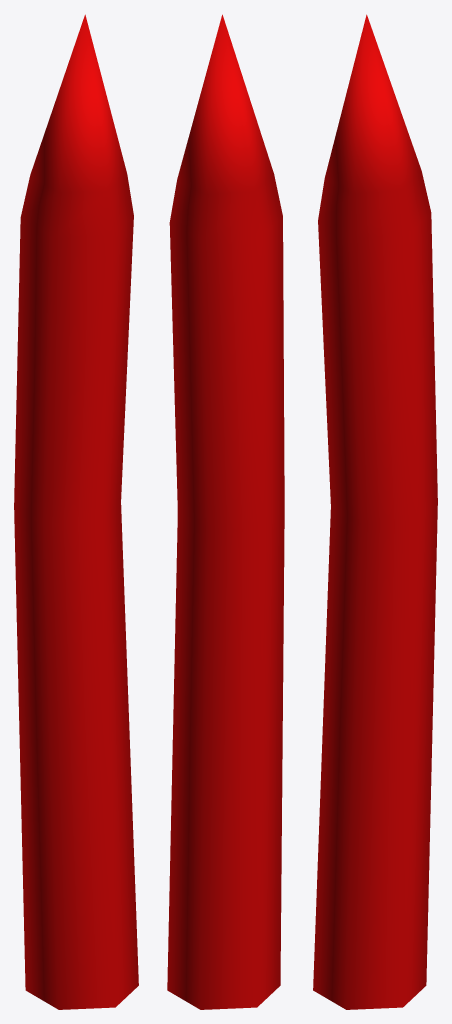
The model's file is Stake_03_Lod0.fbx.
3 renders of one model, left to right at view 1: azimuth 90°, elevation 25°; view 2: azimuth 210°, elevation 25°; view 3: azimuth 270°, elevation 25°, orthographic.
Parts seen in each view (by area): view 1: Stake_03_Lod0; view 2: Stake_03_Lod0; view 3: Stake_03_Lod0.
Boxes of the visible parts, x1,y1,x2,y2 form: Stake_03_Lod0: [14, 14, 138, 1009]; Stake_03_Lod0: [167, 14, 284, 1009]; Stake_03_Lod0: [313, 14, 437, 1009].
Bounding box in the file's own units: 11.99 × 124 × 14.4.
